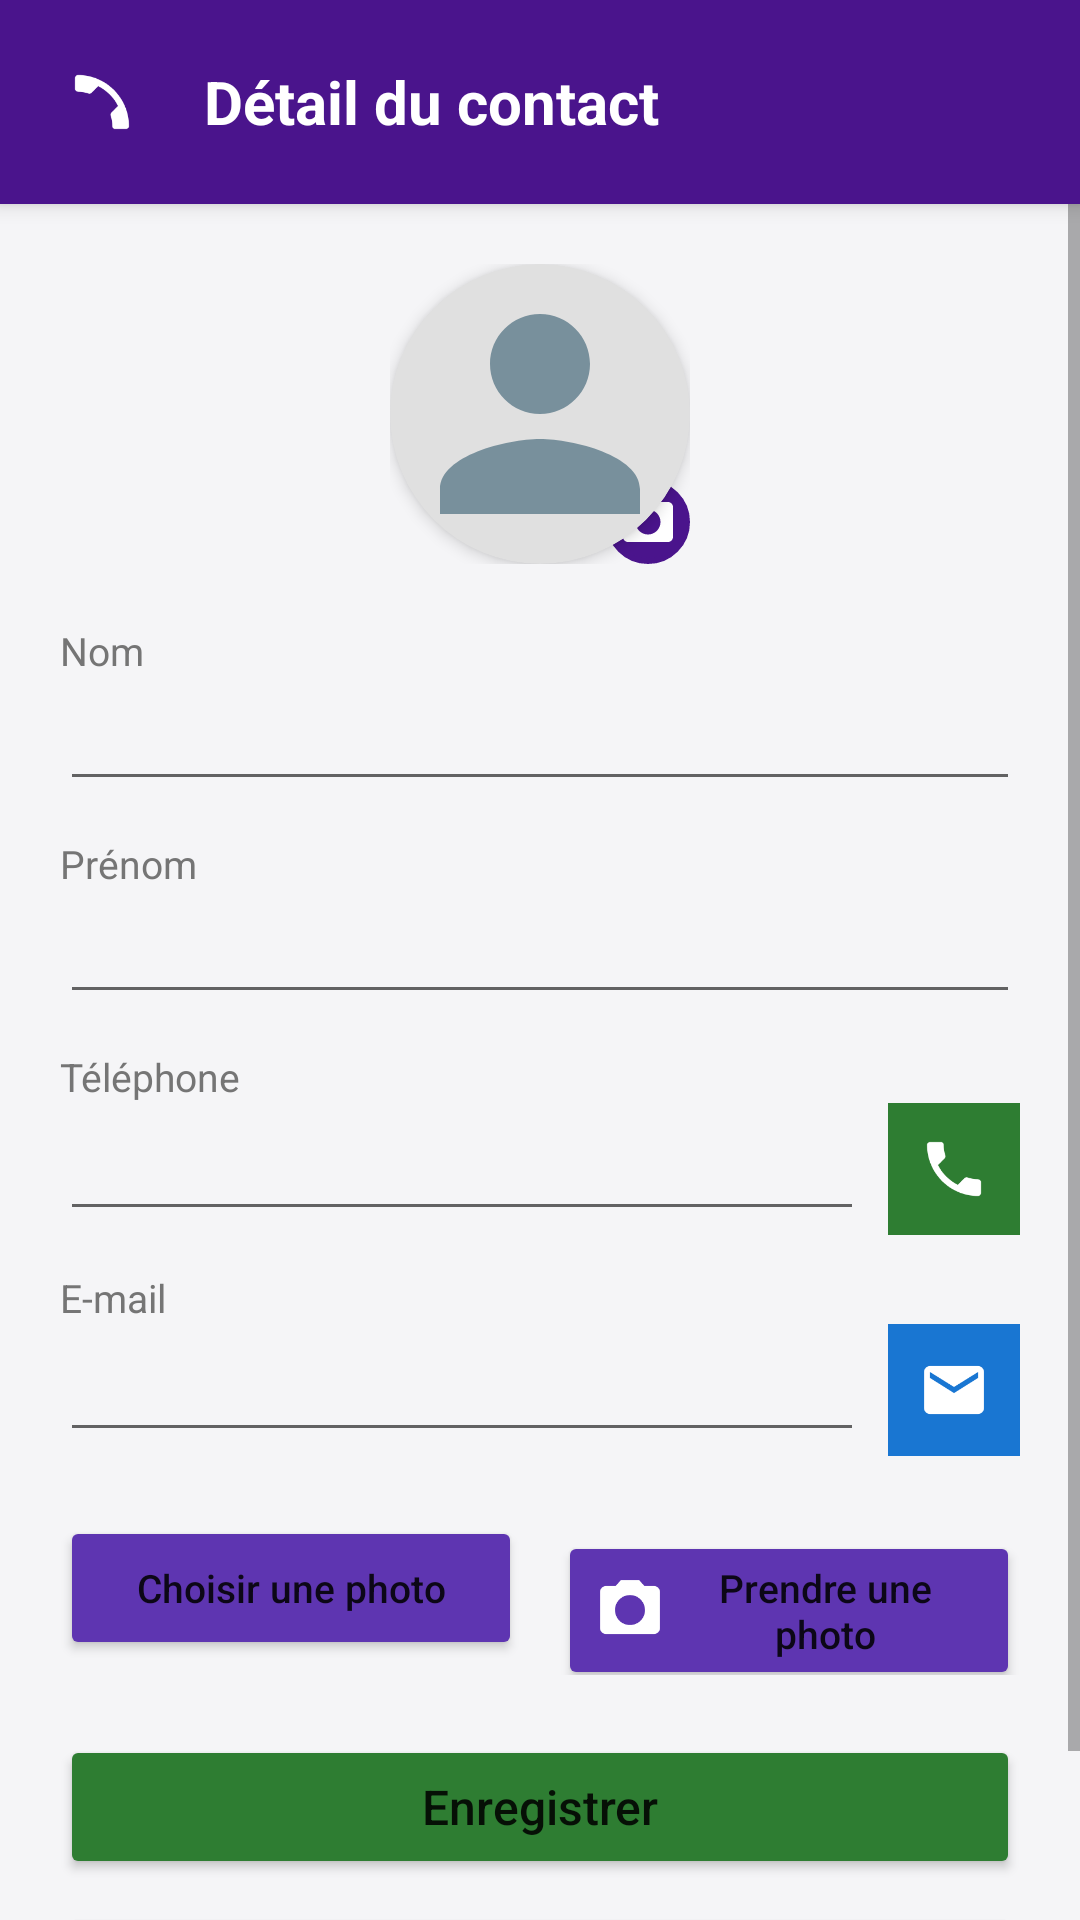

Icons on this 1080w x 1920h Android screen, each with its box as (x1, y1, x2, y2):
Appeler le contact: (888, 1103, 1020, 1235)
